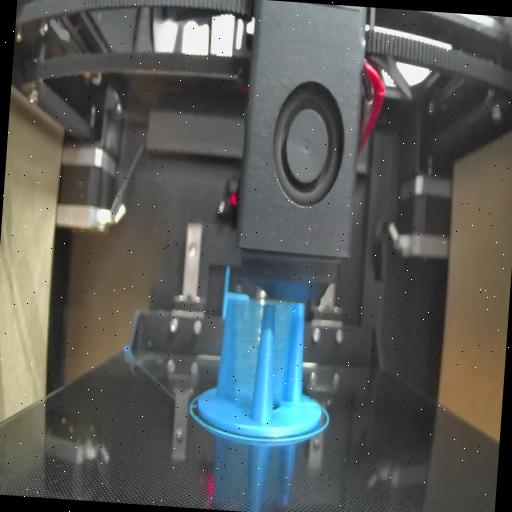stringing: (226, 299, 264, 421), (271, 303, 297, 412)
